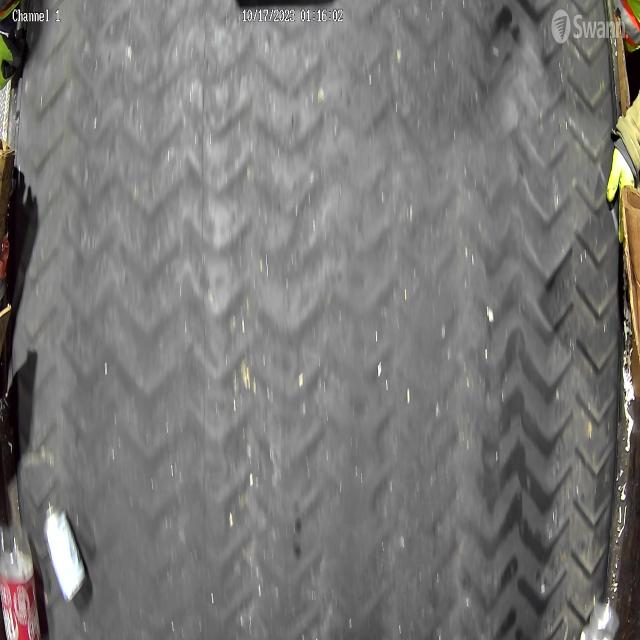can: (43, 501, 87, 603)
